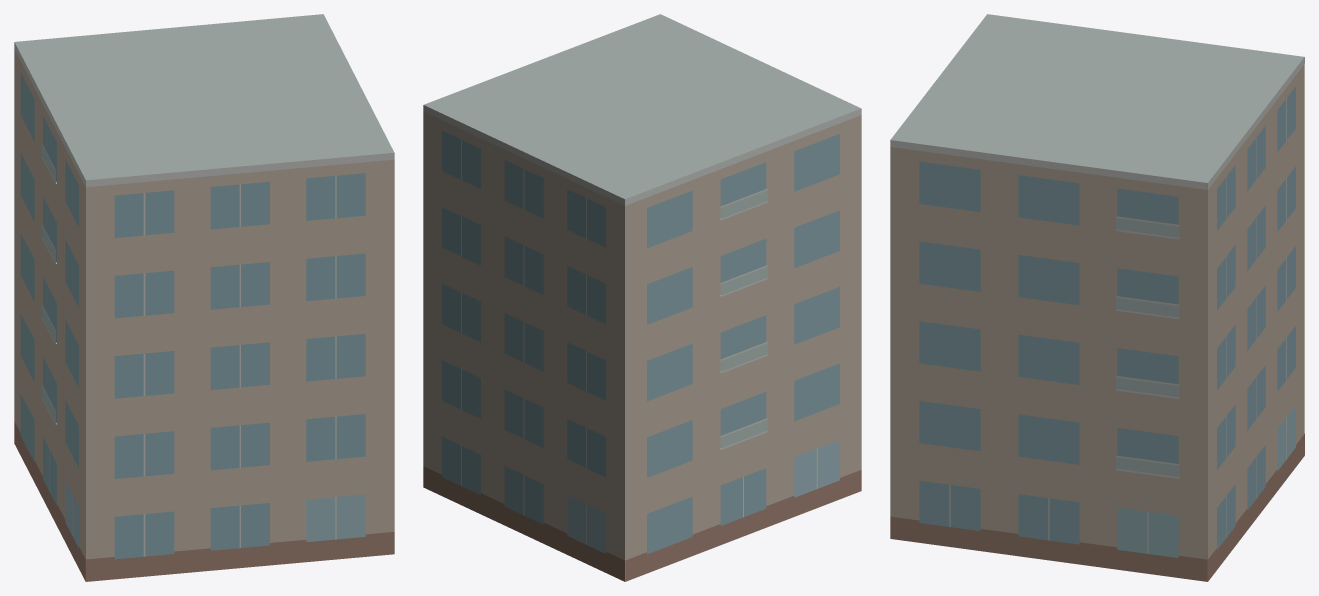
The model's file is survey-upis-32529663.glb.
The picture shows the model from 3 angles, left to right: view 1: azimuth 30°, elevation 25°; view 2: azimuth 150°, elevation 25°; view 3: azimuth 270°, elevation 25°; orthographic projection. The views are drawn at different scales.
Parts seen in each view (by area): view 1: survey-upis-32529663.tmp; view 2: survey-upis-32529663.tmp; view 3: survey-upis-32529663.tmp.
Boxes of the visible parts, left/top/right/bottom form: survey-upis-32529663.tmp: left=14, top=14, right=394, bottom=581; survey-upis-32529663.tmp: left=423, top=14, right=861, bottom=581; survey-upis-32529663.tmp: left=890, top=14, right=1304, bottom=581.
Size of the model in its own units: 12.92 by 14.2 by 13.38.
